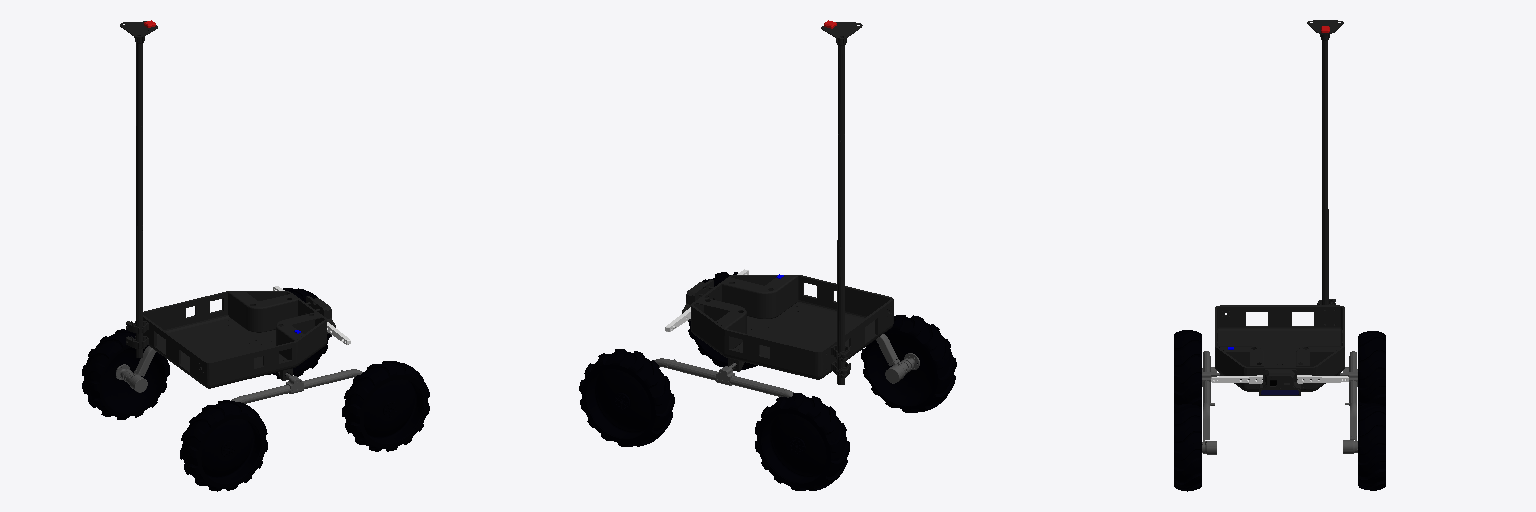
robot.urdf — core_description:
<?xml version="1.0" encoding="utf-8"?>
<!-- This URDF was automatically created by SolidWorks to URDF Exporter! Originally created by Stephen Brawner (brawner@gmail.com) 
     Commit Version:   Build Version: 1.6.9612.1828
     For more information, please see http://wiki.ros.org/sw_urdf_exporter -->
<robot
  name="core_description">

  <link
    name="base_link">
    <inertial>
      <origin
        xyz="-0.052364 -0.0085782 0.046426"
        rpy="0 0 0" />
      <mass
        value="72.183" />
      <inertia
        ixx="2.0084"
        ixy="0.00017234"
        ixz="-0.0066835"
        iyy="2.4018"
        iyz="-0.0015707"
        izz="4.2065" />
    </inertial>
    <visual>
      <origin
        xyz="0 0 0"
        rpy="0 0 0" />
      <geometry>
        <mesh
          filename="package://core_description/meshes/base_link.STL" />
      </geometry>
      <material
        name="">
        <color
          rgba="0.15 0.15 0.15 1" />
      </material>
    </visual>
    <collision>
      <origin
        xyz="0 0 0"
        rpy="0 0 0" />
      <geometry>
        <mesh
          filename="package://core_description/meshes/base_link.STL" />
      </geometry>
    </collision>
  </link>

  <link
    name="left_suspension_link">
    <inertial>
      <origin
        xyz="-0.00015298 -0.094081 0.024218"
        rpy="0 0 0" />
      <mass
        value="2.3189" />
      <inertia
        ixx="0.0010284"
        ixy="2.2716E-07"
        ixz="4.3618E-07"
        iyy="0.006131"
        iyz="6.6975E-07"
        izz="0.0062086" />
    </inertial>
    <visual>
      <origin
        xyz="0 0 0"
        rpy="0 0 0" />
      <geometry>
        <mesh
          filename="package://core_description/meshes/left_suspension_link.STL" />
      </geometry>
      <material
        name="">
        <color
          rgba="0.35 0.35 0.35 1" />
      </material>
    </visual>
    <collision>
      <origin
        xyz="0 0 0"
        rpy="0 0 0" />
      <geometry>
        <mesh
          filename="package://core_description/meshes/left_suspension_link.STL" />
      </geometry>
    </collision>
  </link>

  <joint
    name="left_suspension_joint"
    type="revolute">
    <origin
      xyz="0.025669 0.29798 -0.059879"
      rpy="1.5708 0.0086 3.1416" />
    <parent
      link="base_link" />
    <child
      link="left_suspension_link" />
    <axis
      xyz="0 0 1" />
    <limit
      lower="0"
      upper="0"
      effort="50"
      velocity="1.5" />
  </joint>

  <link
    name="fl_wheel_link">
    <inertial>
      <origin
        xyz="-0.023773 9.8782E-05 -6.6071E-05"
        rpy="0 0 0" />
      <mass
        value="5.1003" />
      <inertia
        ixx="0.1327"
        ixy="2.8933E-08"
        ixz="3.2058E-07"
        iyy="0.071017"
        iyz="-3.1723E-06"
        izz="0.071016" />
    </inertial>
    <visual>
      <origin
        xyz="0 0 0"
        rpy="0 0 0" />
      <geometry>
        <mesh
          filename="package://core_description/meshes/fl_wheel_link.STL" />
      </geometry>
      <material
        name="">
        <color
          rgba="0.02 0.02 0.04 1" />
      </material>
    </visual>
    <collision>
      <origin
        xyz="0 0 0"
        rpy="0 0 0" />
      <geometry>
        <mesh
          filename="package://core_description/meshes/fl_wheel_link.STL" />
      </geometry>
    </collision>
  </link>

  <joint
    name="fl_wheel_joint"
    type="continuous">
    <origin
      xyz="-0.39101 -0.14546 0.1297"
      rpy="-3.0652 -1.5708 -1.5622" />
    <parent
      link="left_suspension_link" />
    <child
      link="fl_wheel_link" />
    <axis
      xyz="1 0 0" />
  </joint>

  <link
    name="bl_wheel_link">
    <inertial>
      <origin
        xyz="-0.023773 9.8803E-05 -6.609E-05"
        rpy="0 0 0" />
      <mass
        value="5.1003" />
      <inertia
        ixx="0.1327"
        ixy="1.4795E-08"
        ixz="3.1821E-07"
        iyy="0.071017"
        iyz="-3.2228E-06"
        izz="0.071016" />
    </inertial>
    <visual>
      <origin
        xyz="0 0 0"
        rpy="0 0 0" />
      <geometry>
        <mesh
          filename="package://core_description/meshes/bl_wheel_link.STL" />
      </geometry>
      <material
        name="">
        <color
          rgba="0.02 0.02 0.04 1" />
      </material>
    </visual>
    <collision>
      <origin
        xyz="0 0 0"
        rpy="0 0 0" />
      <geometry>
        <mesh
          filename="package://core_description/meshes/bl_wheel_link.STL" />
      </geometry>
    </collision>
  </link>

  <joint
    name="bl_wheel_joint"
    type="continuous">
    <origin
      xyz="0.39101 -0.14546 0.1297"
      rpy="2.2133 -1.5708 -1.5622" />
    <parent
      link="left_suspension_link" />
    <child
      link="bl_wheel_link" />
    <axis
      xyz="1 0 0" />
  </joint>

  <link
    name="right_suspension_link">
    <inertial>
      <origin
        xyz="0.086548 -0.090726 -0.10454"
        rpy="0 0 0" />
      <mass
        value="2.3189" />
      <inertia
        ixx="0.0034651"
        ixy="-0.0025487"
        ixz="7.6346E-07"
        iyy="0.0036944"
        iyz="-1.9659E-07"
        izz="0.0062086" />
    </inertial>
    <visual>
      <origin
        xyz="0 0 0"
        rpy="0 0 0" />
      <geometry>
        <mesh
          filename="package://core_description/meshes/right_suspension_link.STL" />
      </geometry>
      <material
        name="">
        <color
          rgba="0.35 0.35 0.35 1" />
      </material>
    </visual>
    <collision>
      <origin
        xyz="0 0 0"
        rpy="0 0 0" />
      <geometry>
        <mesh
          filename="package://core_description/meshes/right_suspension_link.STL" />
      </geometry>
    </collision>
  </link>

  <joint
    name="right_suspension_joint"
    type="revolute">
    <origin
      xyz="0.0254 -0.23671 -0.028575"
      rpy="1.5708 0.76291 3.1416" />
    <parent
      link="base_link" />
    <child
      link="right_suspension_link" />
    <axis
      xyz="0 0 -1" />
    <limit
      lower="0"
      upper="0"
      effort="50"
      velocity="1.5" />
    <mimic
      joint="left_suspension_joint"
      multiplier="1"
      offset="0" />
  </joint>

  <link
    name="fr_wheel_link">
    <inertial>
      <origin
        xyz="-9.8802E-05 0.065 -6.6097E-05"
        rpy="0 0 0" />
      <mass
        value="5.1003" />
      <inertia
        ixx="0.071017"
        ixy="-1.7613E-08"
        ixz="3.2228E-06"
        iyy="0.1327"
        iyz="3.1542E-07"
        izz="0.071016" />
    </inertial>
    <visual>
      <origin
        xyz="0 0 0"
        rpy="0 0 0" />
      <geometry>
        <mesh
          filename="package://core_description/meshes/fr_wheel_link.STL" />
      </geometry>
      <material
        name="">
        <color
          rgba="0.02 0.02 0.04 1" />
      </material>
    </visual>
    <collision>
      <origin
        xyz="0 0 0"
        rpy="0 0 0" />
      <geometry>
        <mesh
          filename="package://core_description/meshes/fr_wheel_link.STL" />
      </geometry>
    </collision>
  </link>

  <joint
    name="fr_wheel_joint"
    type="continuous">
    <origin
      xyz="-0.16048 -0.39797 -0.12125"
      rpy="-1.5708 0 -1.459" />
    <parent
      link="right_suspension_link" />
    <child
      link="fr_wheel_link" />
    <axis
      xyz="0 -1 0" />
  </joint>

  <link
    name="br_wheel_link">
    <inertial>
      <origin
        xyz="-0.023773 9.8782E-05 -6.6074E-05"
        rpy="0 0 0" />
      <mass
        value="5.1003" />
      <inertia
        ixx="0.1327"
        ixy="2.9563E-08"
        ixz="3.2879E-07"
        iyy="0.071017"
        iyz="-3.1723E-06"
        izz="0.071016" />
    </inertial>
    <visual>
      <origin
        xyz="0 0 0"
        rpy="0 0 0" />
      <geometry>
        <mesh
          filename="package://core_description/meshes/br_wheel_link.STL" />
      </geometry>
      <material
        name="">
        <color
          rgba="0.02 0.02 0.04 1" />
      </material>
    </visual>
    <collision>
      <origin
        xyz="0 0 0"
        rpy="0 0 0" />
      <geometry>
        <mesh
          filename="package://core_description/meshes/br_wheel_link.STL" />
      </geometry>
    </collision>
  </link>

  <joint
    name="br_wheel_joint"
    type="continuous">
    <origin
      xyz="0.40478 0.14243 -0.21002"
      rpy="0.89286 1.5708 0" />
    <parent
      link="right_suspension_link" />
    <child
      link="br_wheel_link" />
    <axis
      xyz="-1 0 0" />
  </joint>

  <link
    name="averaging_bar_link">
    <inertial>
      <origin
        xyz="-5.3135E-13 0.0095448 -3.5616E-13"
        rpy="0 0 0" />
      <mass
        value="0.83085" />
      <inertia
        ixx="9.3227E-05"
        ixy="2.0628E-19"
        ixz="6.1943E-14"
        iyy="0.023692"
        iyz="5.8241E-22"
        izz="0.023649" />
    </inertial>
    <visual>
      <origin
        xyz="0 0 0"
        rpy="0 0 0" />
      <geometry>
        <mesh
          filename="package://core_description/meshes/averaging_bar_link.STL" />
      </geometry>
      <material
        name="">
        <color
          rgba="0.9 0.9 0.9 1" />
      </material>
    </visual>
    <collision>
      <origin
        xyz="0 0 0"
        rpy="0 0 0" />
      <geometry>
        <mesh
          filename="package://core_description/meshes/averaging_bar_link.STL" />
      </geometry>
    </collision>
  </link>

  <joint
    name="averaging_bar_joint"
    type="revolute">
    <origin
      xyz="0.3066 -0.009525 0.075057"
      rpy="3.1416 0.003802 -1.5708" />
    <parent
      link="base_link" />
    <child
      link="averaging_bar_link" />
    <axis
      xyz="0 -1 0" />
    <limit
      lower="0"
      upper="0"
      effort="50"
      velocity="1.5" />
    <mimic
      joint="left_suspension_joint"
      multiplier="-1"
      offset="0" />
  </joint>

  <link
    name="zed_camera_link">
    <inertial>
      <origin
        xyz="-0.0089676 -0.032487 -0.0027971"
        rpy="0 0 0" />
      <mass
        value="0.17032" />
      <inertia
        ixx="3.2574E-05"
        ixy="-3.2795E-09"
        ixz="1.3829E-09"
        iyy="0.00038294"
        iyz="6.4525E-08"
        izz="0.00039062" />
    </inertial>
    <visual>
      <origin
        xyz="0 0 0"
        rpy="0 0 0" />
      <geometry>
        <mesh
          filename="package://core_description/meshes/zed_camera_link.STL" />
      </geometry>
      <material
        name="">
        <color
          rgba="0.1 0.1 0.3 1" />
      </material>
    </visual>
    <collision>
      <origin
        xyz="0 0 0"
        rpy="0 0 0" />
      <geometry>
        <mesh
          filename="package://core_description/meshes/zed_camera_link.STL" />
      </geometry>
    </collision>
  </link>

  <joint
    name="zed_camera_joint"
    type="fixed">
    <origin
      xyz="0.30801 -0.00055649 0.041848"
      rpy="0 0 1.5708" />
    <parent
      link="base_link" />
    <child
      link="zed_camera_link" />
    <axis
      xyz="0 0 0" />
  </joint>

  <!-- CORE EMBEDDED GPS ANTENNA LINK (from Solidworks) -->
  <link
    name="core_gps_antenna_link">
    <inertial>
      <origin
        xyz="0 0 0"
        rpy="0 0 0" />
      <mass
        value="0" />
      <inertia
        ixx="0"
        ixy="0"
        ixz="0"
        iyy="0"
        iyz="0"
        izz="0" />
    </inertial>
    <visual>
      <origin
        xyz="0 0 0"
        rpy="0 0 0" />
      <geometry>
        <mesh
          filename="package://core_description/meshes/core_gps_antenna_link.STL" />
      </geometry>
      <material
        name="">
        <color
          rgba="0.8 0.1 0.1 1" />
      </material>
    </visual>
    <collision>
      <origin
        xyz="0 0 0"
        rpy="0 0 0" />
      <geometry>
        <mesh
          filename="package://core_description/meshes/core_gps_antenna_link.STL" />
      </geometry>
    </collision>
  </link>

  <joint
    name="core_gps_antenna_joint"
    type="fixed">
    <origin
      xyz="-0.42556 0.1677 1.4846"
      rpy="0 0 -1.5708" />
    <parent
      link="base_link" />
    <child
      link="core_gps_antenna_link" />
    <axis
      xyz="0 0 0" />
  </joint>

  <gazebo reference="core_gps_antenna_link">
    <material>
      <ambient>"0.1 0.1 0.1 1"</ambient>
      <diffuse>"0.1 0.1 0.1 1"</diffuse>
      <specular>"0.1 0.1 0.1 1"</specular>
    </material>
    <sensor name="core_gps_sensor" type="gps">
      <topic>gps/fix</topic>
      <update_rate>5.0</update_rate>
      <always_on>true</always_on>
      <gz_frame_id>core_gps_antenna_link</gz_frame_id>
    </sensor>
  </gazebo>

  <!-- CORE EMBEDDED IMU LINK -->
  <link name="core_embedded_imu_link">  <!-- Name subject to change-->
    <inertial>
      <origin
        xyz="0 0 0"
        rpy="0 0 0" />
      <mass
        value="0.003" />
      <inertia
        ixx="1.91375e-07"
        ixy="0"
        ixz="0"
        iyy="1.06e-07"
        iyz="0"
        izz="2.97375e-07" />
    </inertial>
    <visual>
      <origin
        xyz="0 0 0"
        rpy="0 0 0" />
      <geometry>
        <box
          size="0.02 0.027 0.004" />
      </geometry>
      <material
        name="">
        <color
          rgba="0.0 0.0 1.0 1" />
      </material>
    </visual>
  </link>

  <joint name="core_embedded_imu_joint" type="fixed">
    <origin
      xyz="0.1 -0.23 0.135"
      rpy="0 0 0" />
    <parent
      link="base_link" />
    <child
      link="core_embedded_imu_link" />
  </joint>
  
  <gazebo reference="core_embedded_imu_link">
    <material>
      <ambient>"0.1 0.1 0.1 1"</ambient>
      <diffuse>"0.1 0.1 0.1 1"</diffuse>
      <specular>"0.1 0.1 0.1 1"</specular>
    </material>
    <sensor name="core_emb_imu_sensor" type="imu">
      <topic>/imu/data</topic>
      <update_rate>10.0</update_rate>
      <always_on>true</always_on>
      <imu>
        <angular_velocity>
          <x><noise type="gaussian"><mean>0</mean><stddev>0.009</stddev></noise></x>
          <y><noise type="gaussian"><mean>0</mean><stddev>0.009</stddev></noise></y>
          <z><noise type="gaussian"><mean>0</mean><stddev>0.009</stddev></noise></z>
        </angular_velocity>
        <linear_acceleration>
          <x><noise type="gaussian"><mean>0</mean><stddev>0.021</stddev></noise></x>
          <y><noise type="gaussian"><mean>0</mean><stddev>0.021</stddev></noise></y>
          <z><noise type="gaussian"><mean>0</mean><stddev>0.021</stddev></noise></z>
        </linear_acceleration>
      </imu>
      <gz_frame_id>core_embedded_imu_link</gz_frame_id>
    </sensor>
  </gazebo>

  <!-- CORE CAMERA LINK (BlueFishCam) -->
  <link name="core_camera_link">
    <inertial>
      <origin
        xyz="0 0 0"
        rpy="0 0 0" />
      <mass
        value="0.13" />
      <inertia
        ixx="1.6666666666666668e-05"
        ixy="0"
        ixz="0"
        iyy="1.6666666666666668e-05"
        iyz="0"
        izz="2.1333333333333334e-05" />
    </inertial>
    <visual>
      <origin
        xyz="0 0 0"
        rpy="0 0 0" />
      <geometry>
        <box
          size="0.02 0.034 0.034" />
      </geometry>
      <material
        name="">
        <color
          rgba="0.03 0.03 0.03 1" />
      </material>
    </visual>
  </link>

  <joint name="core_camera_joint" type="fixed">
    <origin
      xyz="0.348 -0.038 0.085"
      rpy="0 0.262 0" />
    <parent
      link="base_link" />
    <child
      link="core_camera_link" />
  </joint>

  <gazebo reference="core_camera_link">
    <material>
      <ambient>"0.1 0.1 0.1 1"</ambient>
      <diffuse>"0.1 0.1 0.1 1"</diffuse>
      <specular>"0.1 0.1 0.1 1"</specular>
    </material>
    <sensor name="core_camera_sensor" type="camera">
      <topic>/camera_head/image</topic>
      <update_rate>12.0</update_rate>
      <always_on>true</always_on>
      <camera>
        <horizontal_fov>1.52</horizontal_fov>
        <image>
          <width>1280</width>
          <height>720</height>
          <format>R8G8B8</format>
        </image>
        <clip>
          <near>0.05</near>
          <far>120.0</far>
        </clip>
        <noise>
          <type>gaussian</type>
          <mean>0.0</mean>
          <stddev>0.005</stddev>
        </noise>
      </camera>
      <camera_info_topic>/camera_head/camera_info</camera_info_topic>
      <gz_frame_id>core_camera_link</gz_frame_id>
    </sensor>
  </gazebo>

  <!-- GAZEBO RAW ODOMETRY -->
  <gazebo>
    <plugin filename="gz-sim-odometry-publisher-system"
      name="gz::sim::systems::OdometryPublisher">
      <odom_frame>odom</odom_frame>
      <robot_base_frame>base_link</robot_base_frame>
      <odom_publish_frequency>50</odom_publish_frequency>
      <odom_topic>/model/core_rover/odometry</odom_topic>
      <odom_covariance_topic>/model/core_rover/odometry_with_covariance</odom_covariance_topic>
      <tf_topic>/model/core_rover/pose</tf_topic>
      <dimensions>2</dimensions>
      <xyz_offset>0 0 0</xyz_offset>
      <rpy_offset>0 0 0</rpy_offset>
      <gaussian_noise>0</gaussian_noise>
    </plugin>
  </gazebo>

</robot>

--- Facts derived from the render (not from the file) ---
3 views of the same robot in one strip: view 1: azimuth 30°, elevation 25°; view 2: azimuth 150°, elevation 25°; view 3: azimuth 270°, elevation 25° (orthographic).
Model core_description with 12 links and 11 joints (3 revolute, 4 continuous, 4 fixed), rooted at base_link, posed all joints at 0.
Links seen in each view (by area): view 1: base_link, br_wheel_link, fr_wheel_link, bl_wheel_link, right_suspension_link, left_suspension_link, fl_wheel_link; view 2: base_link, fl_wheel_link, bl_wheel_link, br_wheel_link, left_suspension_link, right_suspension_link, fr_wheel_link; view 3: base_link, fl_wheel_link, fr_wheel_link, br_wheel_link, bl_wheel_link, right_suspension_link, left_suspension_link, averaging_bar_link.
Boxes of the visible links, left/top/right/bottom form: base_link: left=120, top=21, right=335, bottom=388; br_wheel_link: left=180, top=400, right=267, bottom=491; fr_wheel_link: left=342, top=361, right=429, bottom=451; bl_wheel_link: left=82, top=329, right=169, bottom=419; right_suspension_link: left=231, top=369, right=362, bottom=403; left_suspension_link: left=116, top=346, right=156, bottom=392; fl_wheel_link: left=268, top=288, right=331, bottom=378; base_link: left=682, top=22, right=893, bottom=384; fl_wheel_link: left=579, top=349, right=674, bottom=446; bl_wheel_link: left=755, top=393, right=849, bottom=490; br_wheel_link: left=861, top=315, right=956, bottom=412; left_suspension_link: left=654, top=358, right=793, bottom=397; right_suspension_link: left=876, top=334, right=919, bottom=383; fr_wheel_link: left=688, top=272, right=757, bottom=369; base_link: left=1215, top=20, right=1344, bottom=395; fl_wheel_link: left=1358, top=403, right=1385, bottom=490; fr_wheel_link: left=1174, top=404, right=1201, bottom=491; br_wheel_link: left=1174, top=330, right=1201, bottom=408; bl_wheel_link: left=1358, top=331, right=1385, bottom=407; right_suspension_link: left=1202, top=351, right=1219, bottom=454; left_suspension_link: left=1340, top=351, right=1357, bottom=453; averaging_bar_link: left=1211, top=375, right=1348, bottom=383.
Size in the robot's own frame: 1.18 by 0.9509 by 1.9 metres.
10 mesh visuals loaded from 10 distinct referenced files (10 binary STL).
